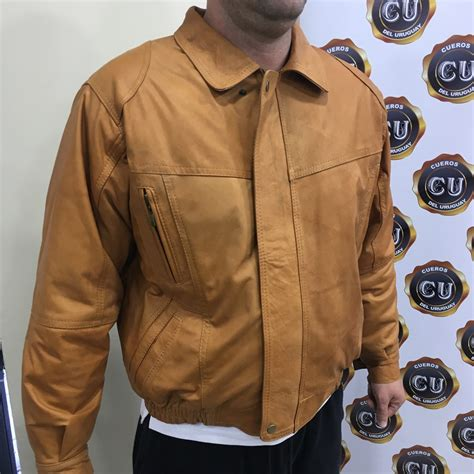cuero: (21, 5, 405, 472)
